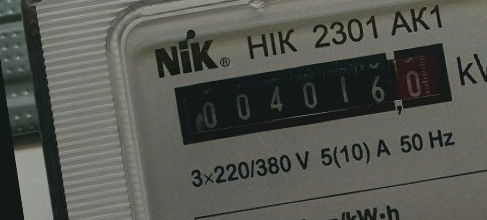0: (297, 75, 323, 113), (197, 95, 222, 131), (231, 87, 255, 124), (400, 65, 425, 99)
1: (334, 69, 354, 105)
4: (264, 79, 287, 116)
6: (365, 69, 388, 104)
screen: (165, 34, 462, 153)
